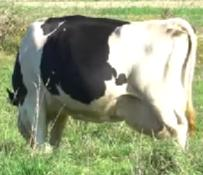cow: (11, 17, 196, 154)
